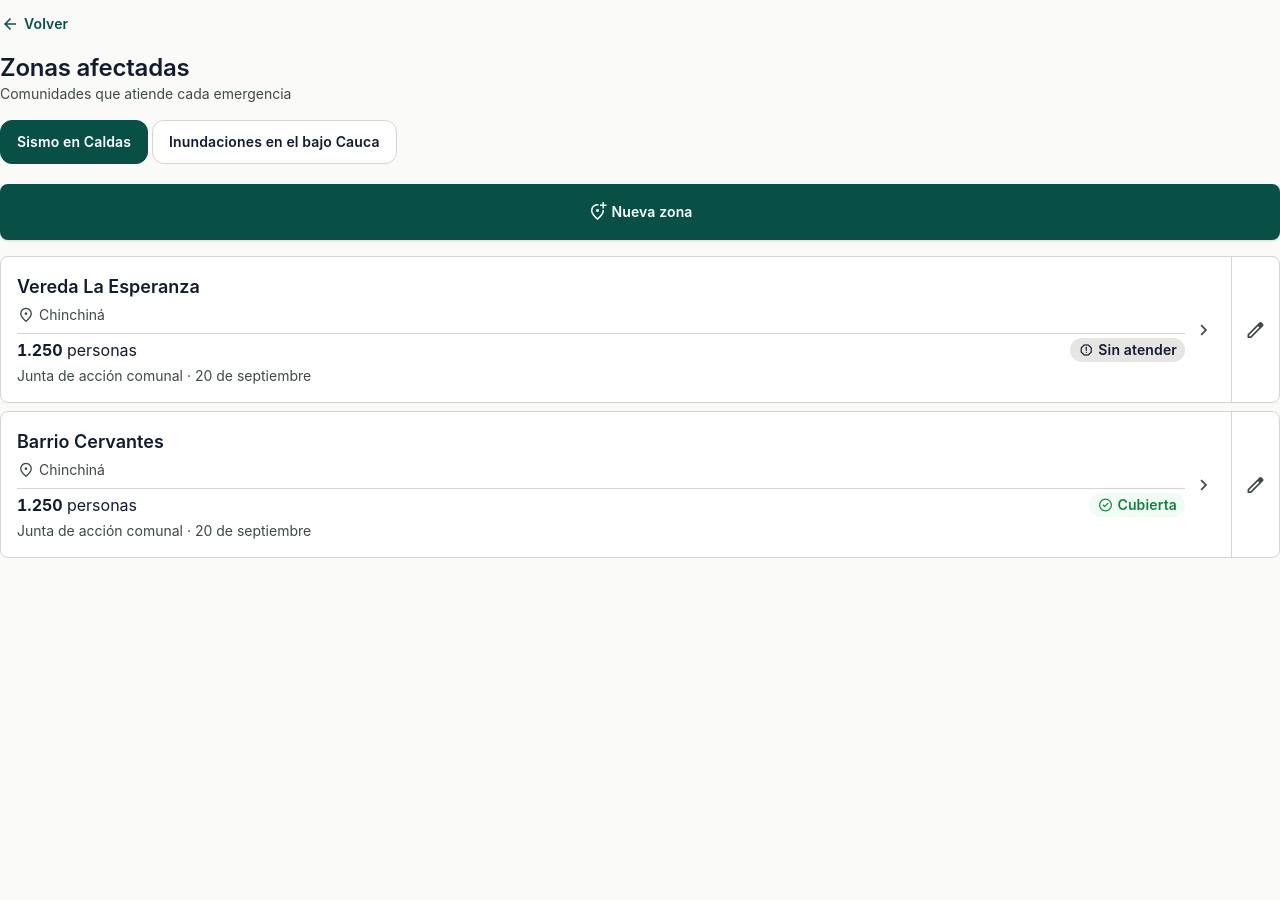
Scenario: cada zona lleva a su ficha y se edita con su botón
The width and height of the screenshot is (1280, 900).
Click the button named "Editar Vereda La Esperanza" at (1255, 330), box [1231, 257, 1279, 402]
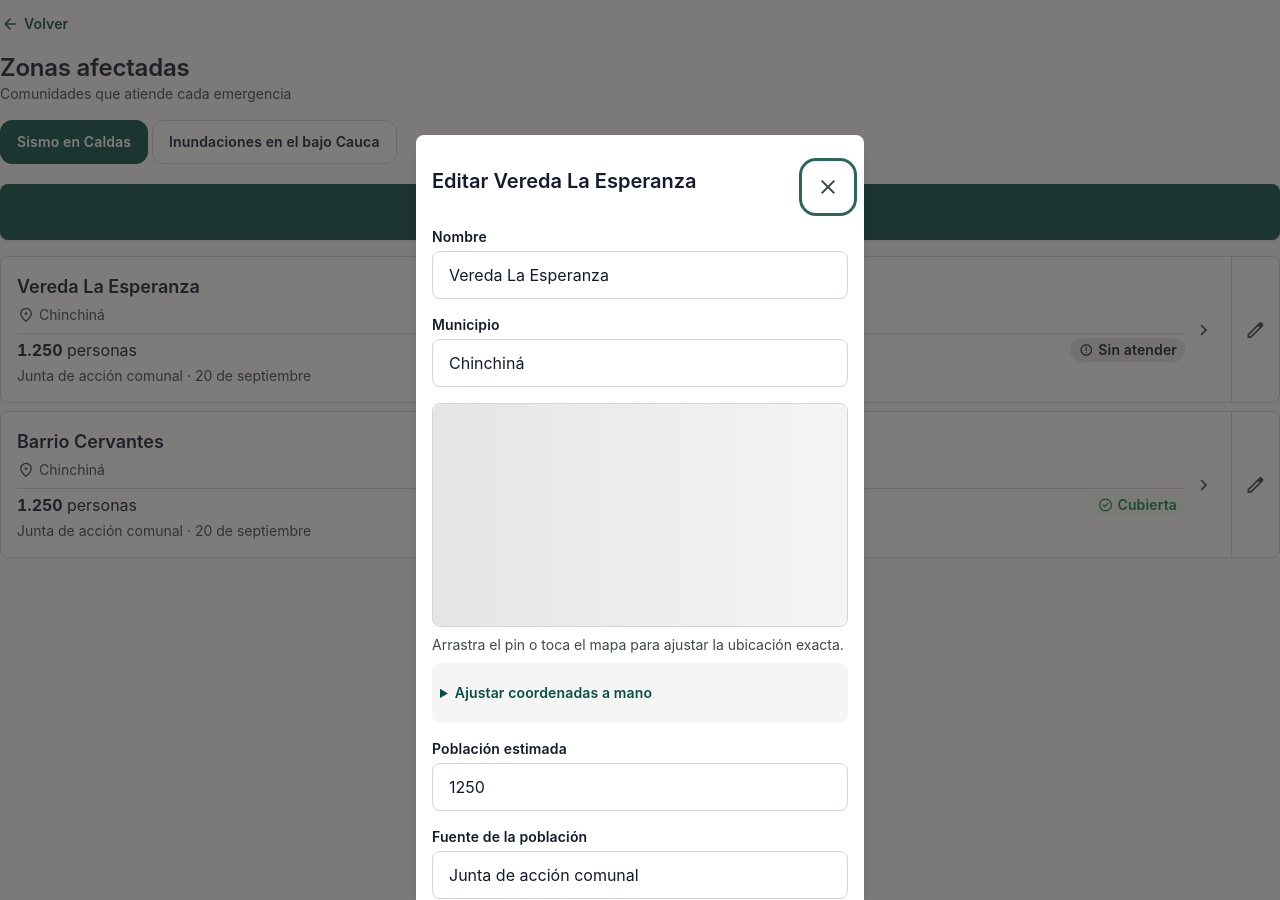
Result: the dialog "Editar Vereda La Esperanza" is shown at [416, 135, 864, 899]
